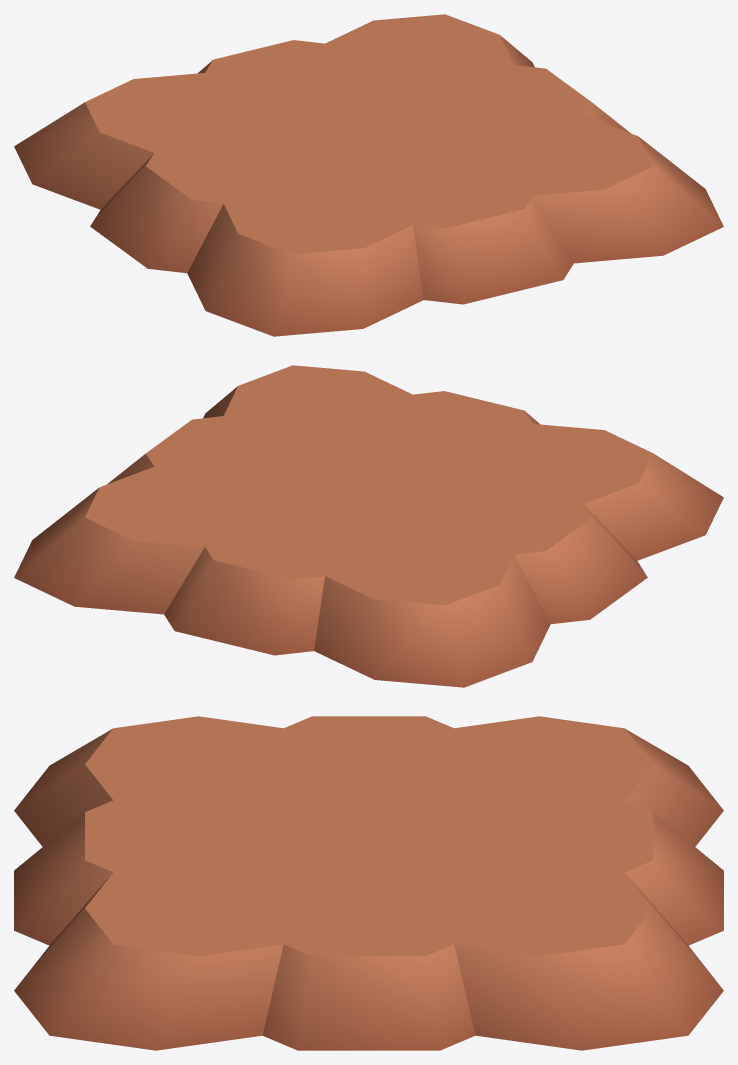
Rendered from patch-dirt.glb.
3 renders of one model, top to bottom at view 1: azimuth 30°, elevation 25°; view 2: azimuth 150°, elevation 25°; view 3: azimuth 270°, elevation 25°, orthographic. The views are drawn at different scales.
Parts seen in each view (by area): view 1: patch-dirt; view 2: patch-dirt; view 3: patch-dirt.
Part boxes in pixels (bbox=[...]): patch-dirt: bbox=[14, 14, 723, 336]; patch-dirt: bbox=[14, 365, 723, 687]; patch-dirt: bbox=[14, 716, 723, 1050].
Bounding box in the file's own units: 1 × 0.1 × 1.
